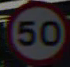Speed limit: (6, 2, 63, 60)
